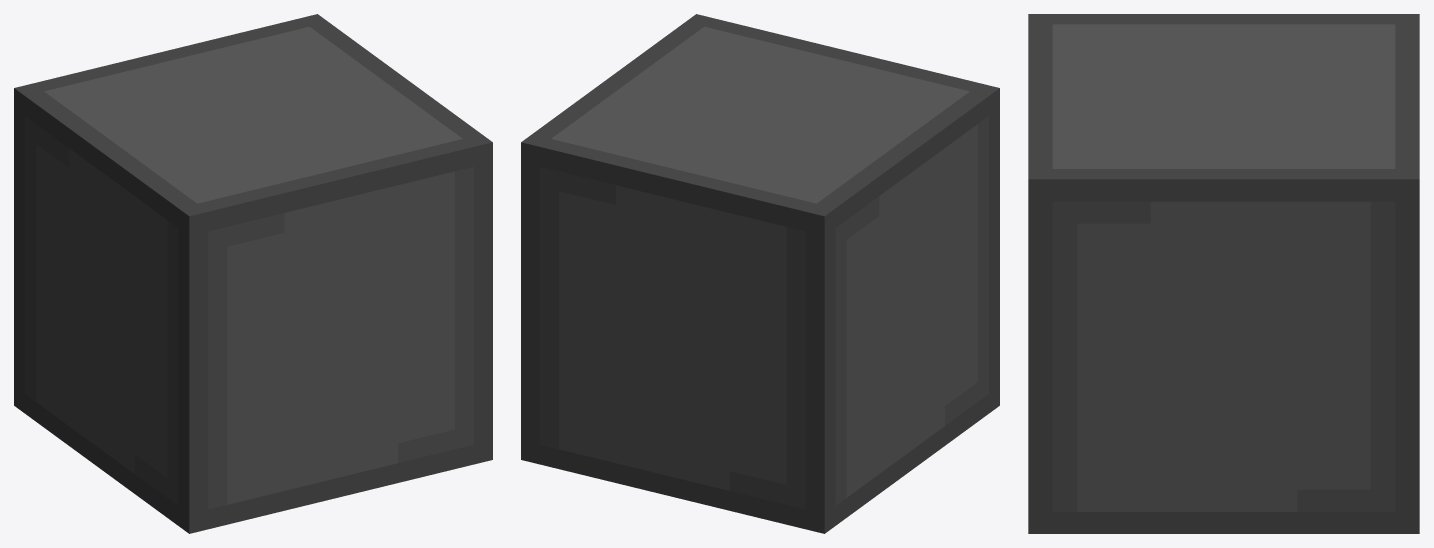
File: stone_monoblock.obj
3 renders of one model, left to right at view 1: azimuth 30°, elevation 25°; view 2: azimuth 150°, elevation 25°; view 3: azimuth 270°, elevation 25°, orthographic. The views are drawn at different scales.
Size of the model in its own units: 1.6 by 1.6 by 1.6.
1 material, 1 textured.
